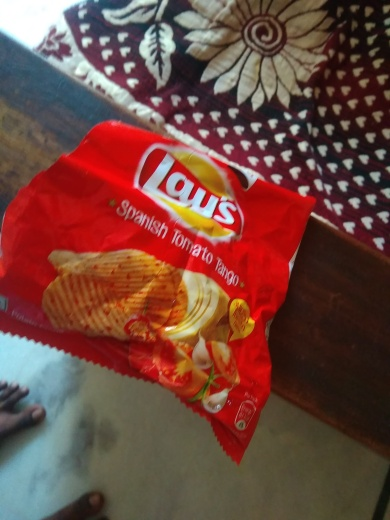lays: (1, 103, 322, 463)
